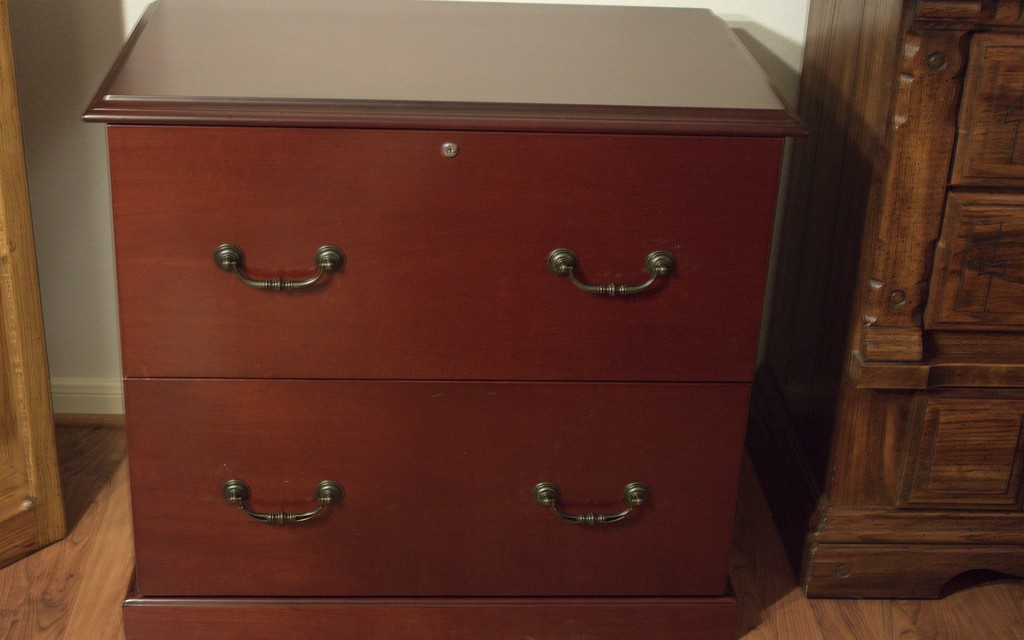cabinet door: (115, 128, 766, 371), (130, 387, 734, 596)
handle: (558, 252, 676, 312), (219, 248, 340, 299), (538, 482, 651, 536), (230, 484, 342, 532)
